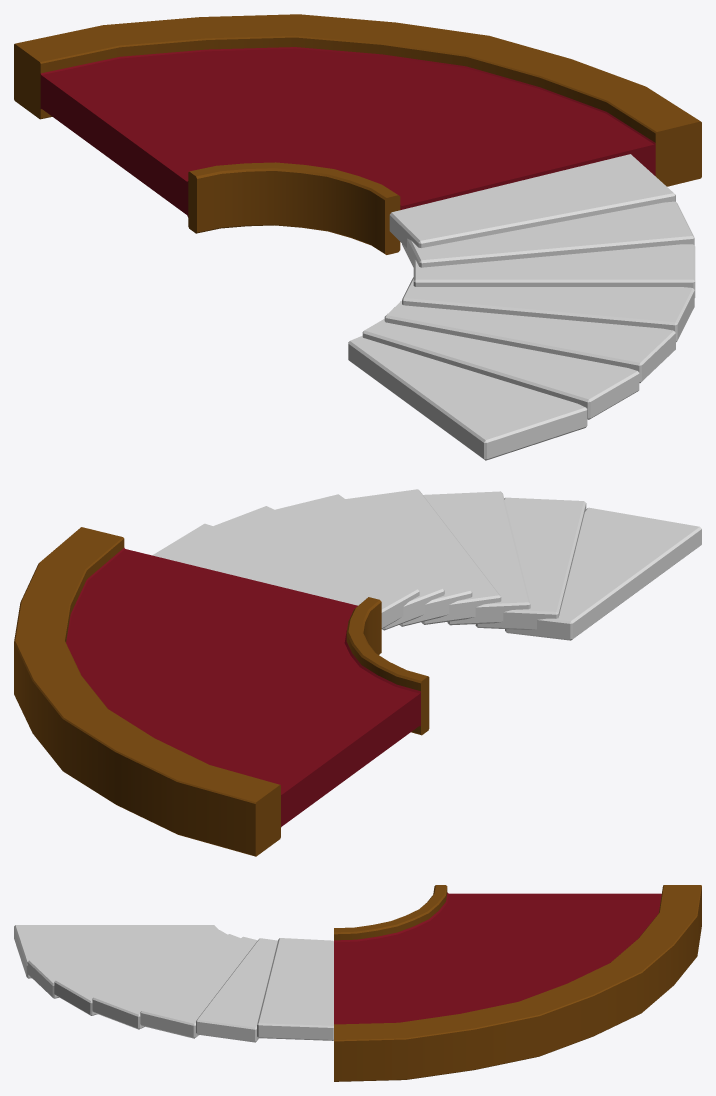
Rendered from SM_stage_quarter_stairs.fbx.
3 renders of one model, top to bottom at view 1: azimuth 30°, elevation 25°; view 2: azimuth 150°, elevation 25°; view 3: azimuth 270°, elevation 25°, orthographic. The views are drawn at different scales.
Visible parts, largest first — view 1: SM_stage_onequarter, SM_stage_stairs_f, SM_stage_stairs_g, SM_stage_stairs_c, SM_stage_stairs_d, SM_stage_stairs_b, SM_stage_stairs_e, SM_stage_stairs_a; view 2: SM_stage_onequarter, SM_stage_stairs_f, SM_stage_stairs_g, SM_stage_stairs_c, SM_stage_stairs_d, SM_stage_stairs_b, SM_stage_stairs_a, SM_stage_stairs_e; view 3: SM_stage_onequarter, SM_stage_stairs_g, SM_stage_stairs_e, SM_stage_stairs_a, SM_stage_stairs_b, SM_stage_stairs_f, SM_stage_stairs_d, SM_stage_stairs_c.
Part boxes in pixels (left/top/right/bottom): SM_stage_onequarter: left=14, top=14, right=701, bottom=254; SM_stage_stairs_f: left=348, top=335, right=587, bottom=460; SM_stage_stairs_g: left=389, top=154, right=675, bottom=247; SM_stage_stairs_c: left=362, top=319, right=639, bottom=419; SM_stage_stairs_d: left=384, top=301, right=675, bottom=383; SM_stage_stairs_b: left=402, top=277, right=694, bottom=341; SM_stage_stairs_e: left=402, top=201, right=694, bottom=267; SM_stage_stairs_a: left=413, top=244, right=695, bottom=297; SM_stage_onequarter: left=14, top=527, right=429, bottom=856; SM_stage_stairs_f: left=505, top=507, right=701, bottom=640; SM_stage_stairs_g: left=152, top=523, right=419, bottom=628; SM_stage_stairs_c: left=475, top=497, right=586, bottom=629; SM_stage_stairs_d: left=423, top=491, right=530, bottom=625; SM_stage_stairs_b: left=345, top=489, right=501, bottom=624; SM_stage_stairs_a: left=275, top=494, right=472, bottom=626; SM_stage_stairs_e: left=213, top=506, right=444, bottom=630; SM_stage_onequarter: left=334, top=885, right=701, bottom=1081; SM_stage_stairs_g: left=257, top=938, right=333, bottom=1040; SM_stage_stairs_e: left=196, top=938, right=277, bottom=1042; SM_stage_stairs_a: left=140, top=936, right=257, bottom=1038; SM_stage_stairs_b: left=92, top=934, right=240, bottom=1029; SM_stage_stairs_f: left=14, top=925, right=214, bottom=978; SM_stage_stairs_d: left=54, top=930, right=227, bottom=1015; SM_stage_stairs_c: left=27, top=925, right=218, bottom=998.
Bounding box in the file's own units: 7.79 × 1.27 × 14.57.
